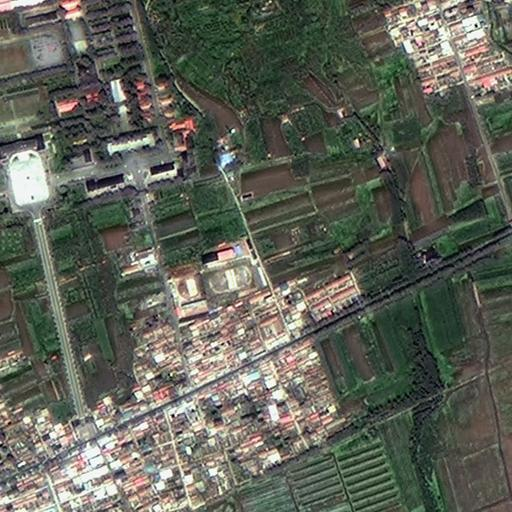school: (165, 234, 263, 318)
